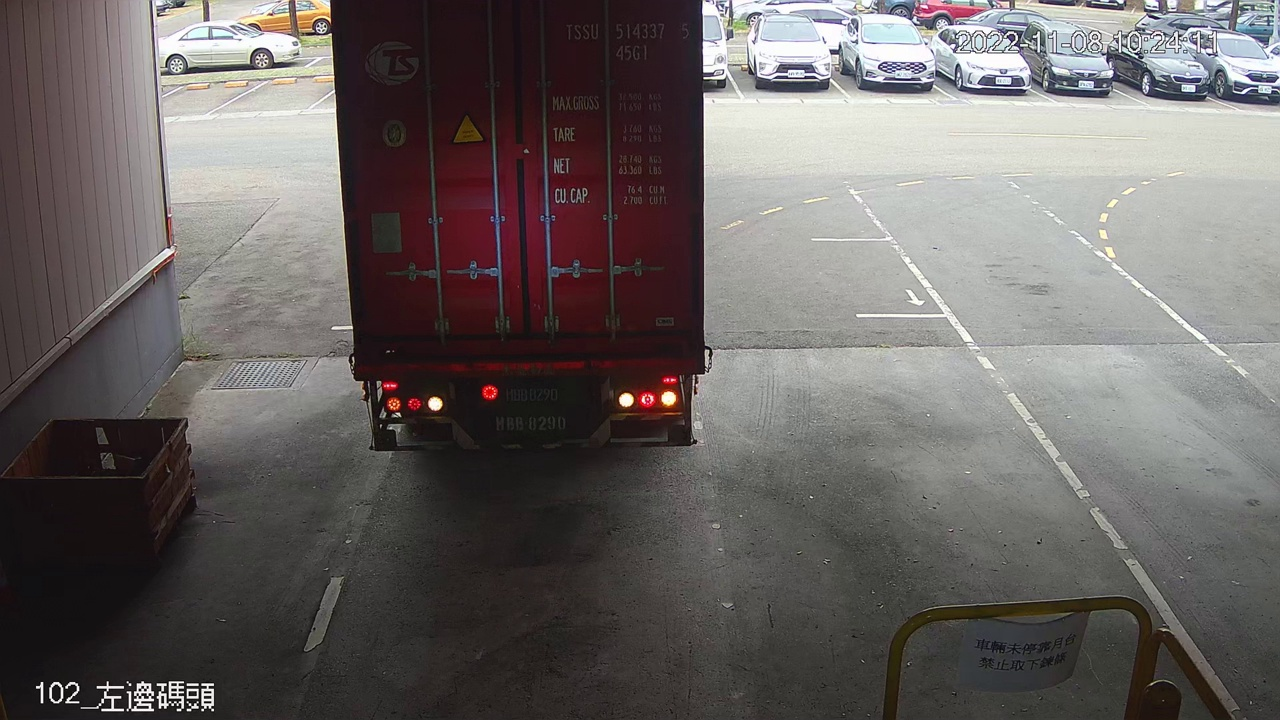container: (557, 13, 695, 67)
